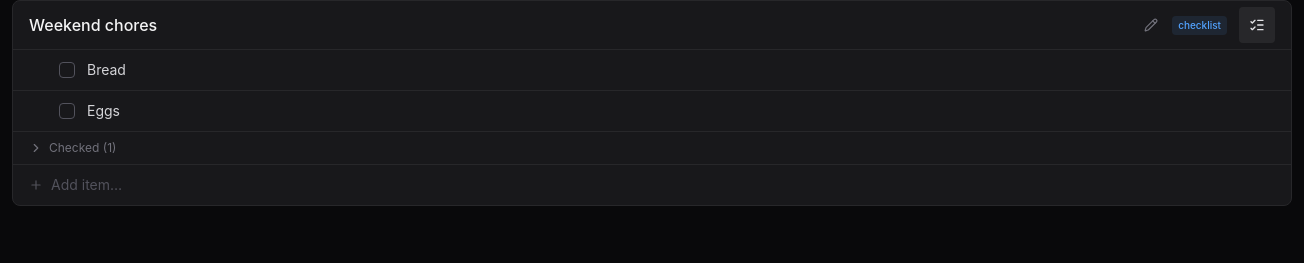
ListDetailPage checked pile › reserves the drag-handle footprint on pile rows so text columns align
What coordinates should you click on to do the following:
click the button "Checked (1)"
I would click on:
 (78, 148)
Its box is x1=13 y1=131 x2=1291 y2=164.
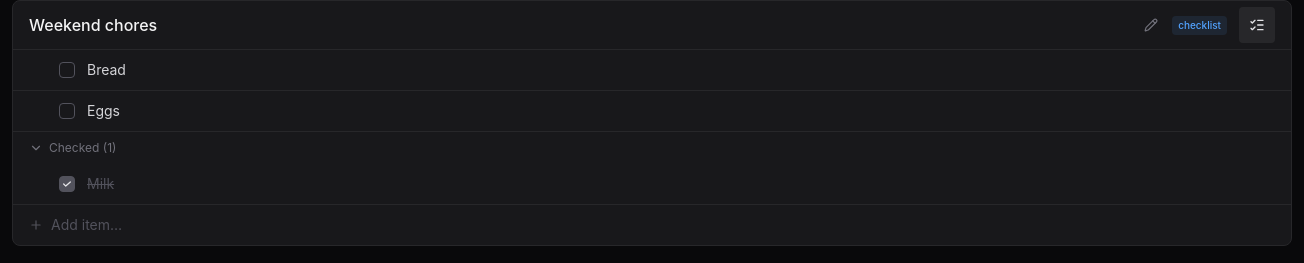
Expected: the list item "Milk" is shown, x1=59 y1=174 x2=1185 y2=194
